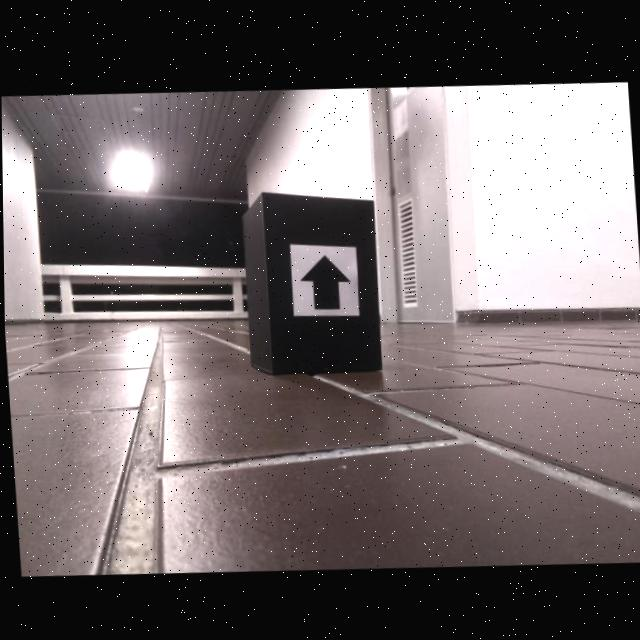UP: (299, 253, 351, 308)
